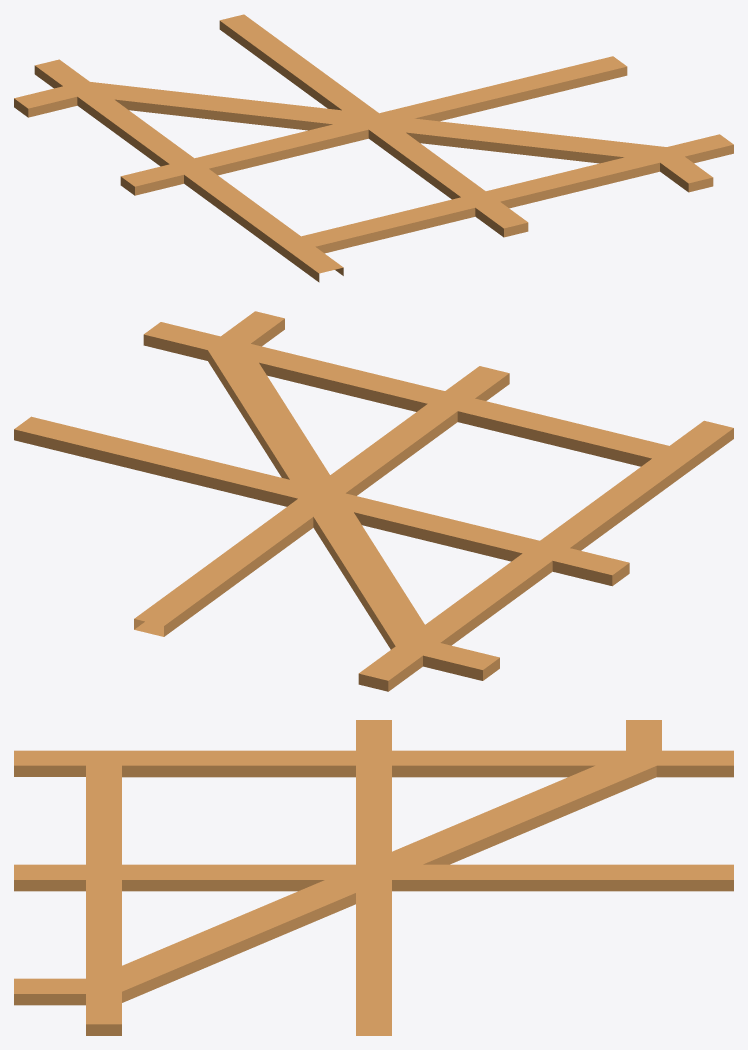
File: WeirdPath.fbx
The picture shows the model from 3 angles, top to bottom: view 1: azimuth 30°, elevation 25°; view 2: azimuth 150°, elevation 25°; view 3: azimuth 270°, elevation 25°; orthographic projection. The views are drawn at different scales.
Parts seen in each view (by area): view 1: Path_Full, Path_InCorner, Path_DoubleCorner, Path_Straight, Path_Corner; view 2: Path_Full, Path_InCorner, Path_DoubleCorner, Path_Straight, Path_Corner; view 3: Path_Full, Path_DoubleCorner, Path_InCorner, Path_Straight, Path_Corner.
Boxes of the visible parts, left/top/right/bottom form: Path_Full: left=121, top=14, right=627, bottom=236; Path_InCorner: left=35, top=67, right=733, bottom=261; Path_DoubleCorner: left=14, top=61, right=727, bottom=192; Path_Straight: left=34, top=60, right=343, bottom=282; Path_Corner: left=14, top=59, right=101, bottom=117; Path_Full: left=14, top=366, right=625, bottom=636; Path_InCorner: left=144, top=322, right=699, bottom=679; Path_DoubleCorner: left=143, top=311, right=498, bottom=679; Path_Straight: left=359, top=420, right=733, bottom=691; Path_Corner: left=358, top=635, right=499, bottom=691; Path_Full: left=14, top=720, right=733, bottom=1035; Path_DoubleCorner: left=14, top=720, right=733, bottom=1035; Path_InCorner: left=14, top=720, right=732, bottom=1019; Path_Straight: left=14, top=720, right=733, bottom=777; Path_Corner: left=626, top=720, right=733, bottom=777.
Bounding box in the file's own units: 200 × 3.5 × 200.
